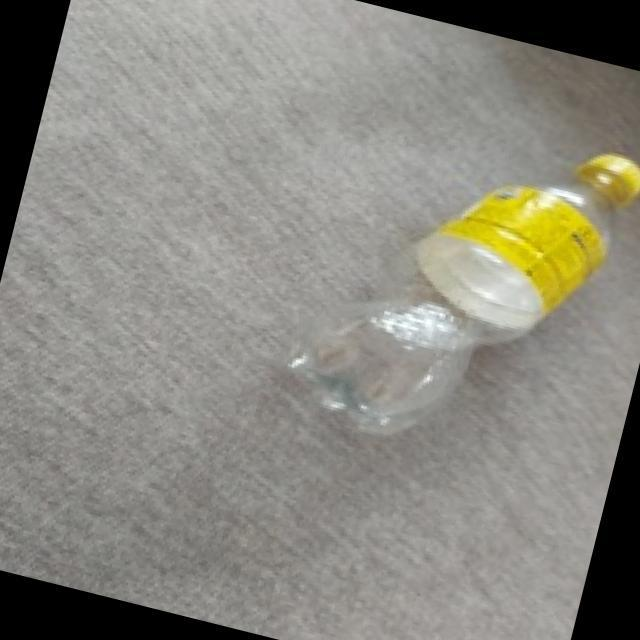good: (270, 96, 640, 481)
